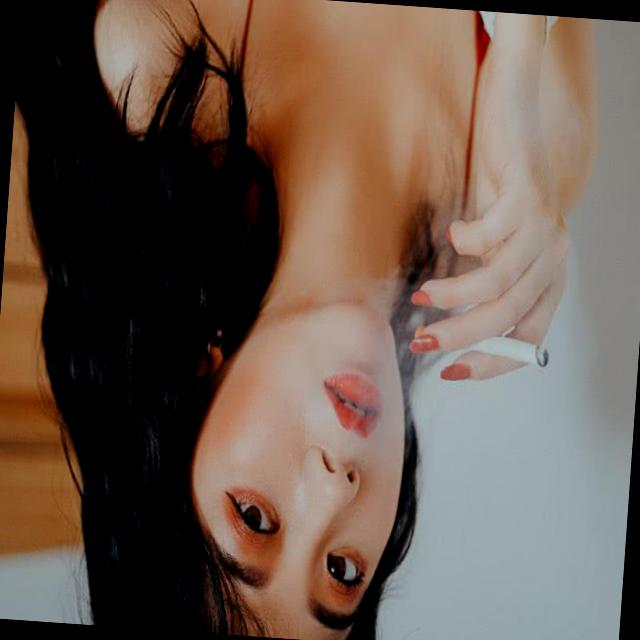cigarette: (422, 306, 562, 404)
